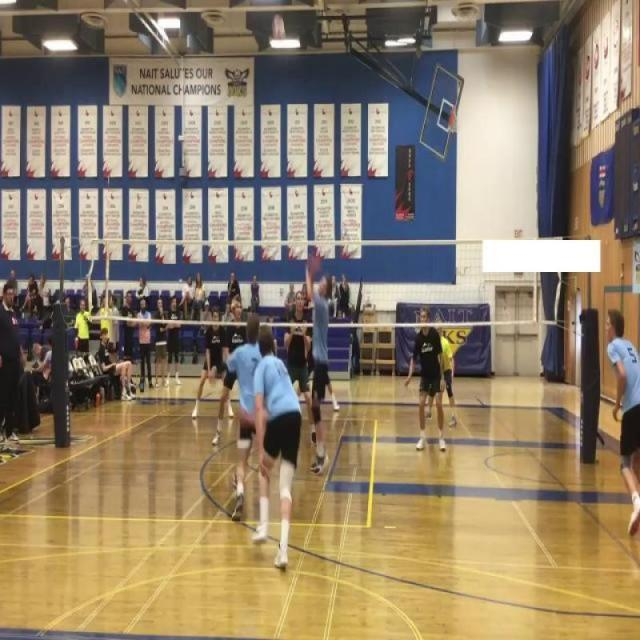volleyball: (271, 13, 287, 40)
